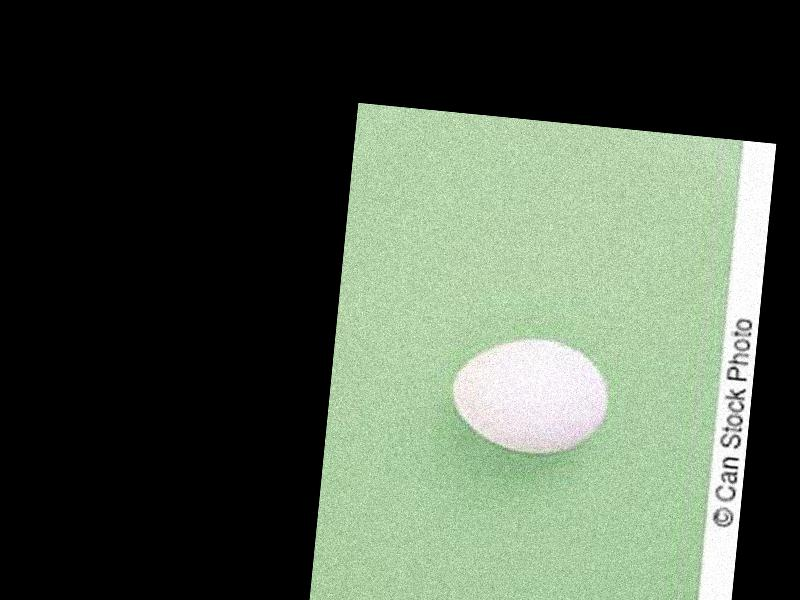Eggs: (448, 333, 611, 459)
